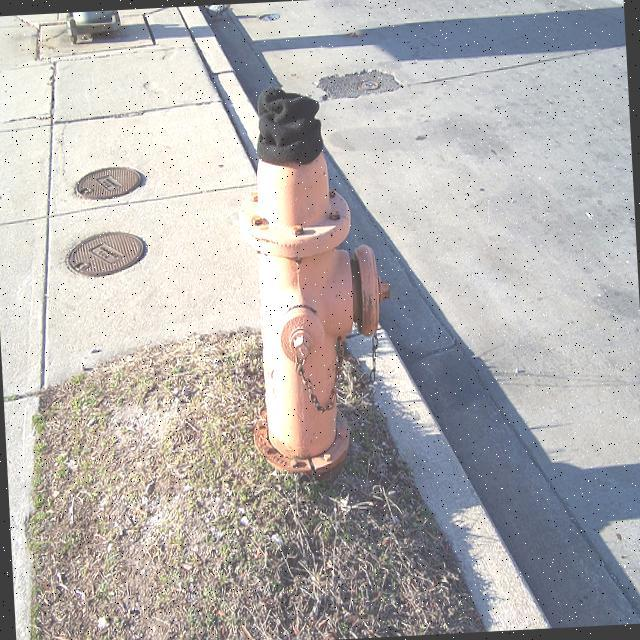fire_hydrant: (226, 66, 403, 493)
